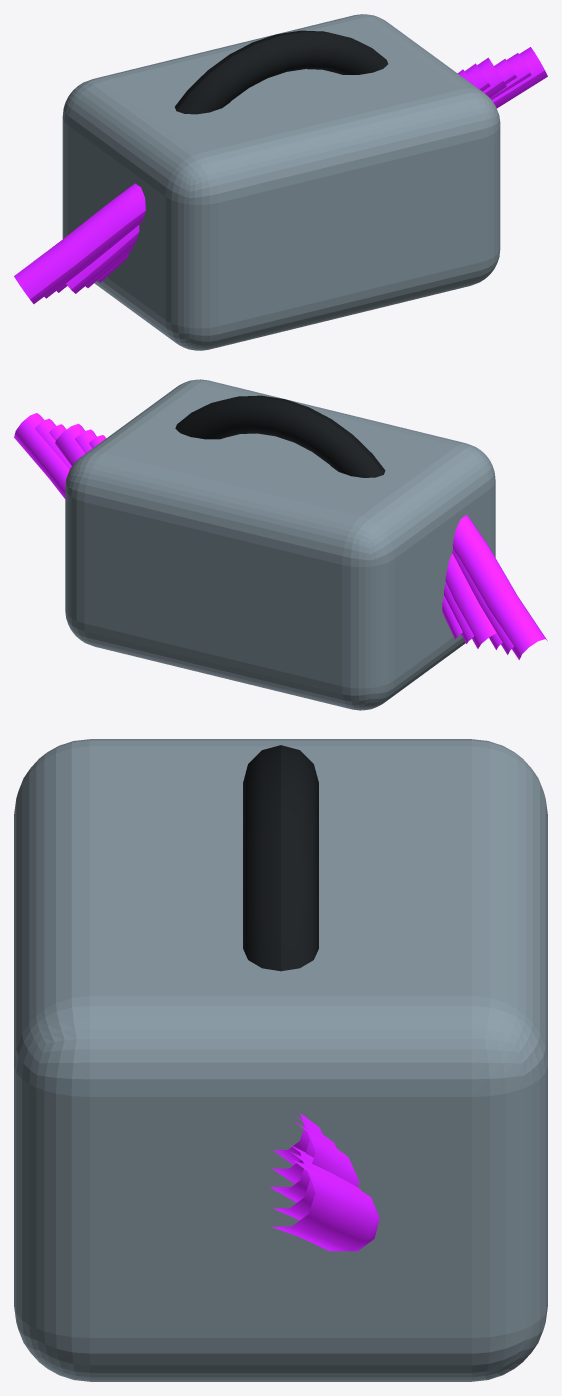
Rendered from electrical_04.glb.
The picture shows the model from 3 angles, top to bottom: view 1: azimuth 30°, elevation 25°; view 2: azimuth 150°, elevation 25°; view 3: azimuth 270°, elevation 25°; orthographic projection. The views are drawn at different scales.
Visible parts, largest first — view 1: asset_mesh__electrical_0152__reference_body, asset_mesh__electrical_0170__service_element, asset_mesh__electrical_0179__current_path, asset_mesh__electrical_0158__current_path, asset_mesh__electrical_0169__current_path, asset_mesh__electrical_0166__current_path; view 2: asset_mesh__electrical_0152__reference_body, asset_mesh__electrical_0170__service_element, asset_mesh__electrical_0179__current_path, asset_mesh__electrical_0158__current_path, asset_mesh__electrical_0169__current_path, asset_mesh__electrical_0166__current_path, asset_mesh__electrical_0165__current_path; view 3: asset_mesh__electrical_0152__reference_body, asset_mesh__electrical_0170__service_element, asset_mesh__electrical_0179__current_path, asset_mesh__electrical_0158__current_path, asset_mesh__electrical_0169__current_path.
Part boxes in pixels (x1,y1,x2,y2): asset_mesh__electrical_0152__reference_body: (62, 14, 500, 350); asset_mesh__electrical_0170__service_element: (175, 30, 388, 114); asset_mesh__electrical_0179__current_path: (14, 47, 547, 303); asset_mesh__electrical_0158__current_path: (66, 57, 506, 293); asset_mesh__electrical_0169__current_path: (44, 53, 531, 298); asset_mesh__electrical_0166__current_path: (85, 63, 490, 287); asset_mesh__electrical_0152__reference_body: (65, 379, 495, 710); asset_mesh__electrical_0170__service_element: (175, 395, 385, 477); asset_mesh__electrical_0179__current_path: (14, 413, 547, 659); asset_mesh__electrical_0158__current_path: (55, 423, 496, 648); asset_mesh__electrical_0169__current_path: (35, 418, 513, 654); asset_mesh__electrical_0166__current_path: (75, 429, 473, 643); asset_mesh__electrical_0165__current_path: (89, 435, 462, 639); asset_mesh__electrical_0152__reference_body: (14, 739, 547, 1381); asset_mesh__electrical_0170__service_element: (243, 745, 318, 971); asset_mesh__electrical_0179__current_path: (271, 1160, 379, 1251); asset_mesh__electrical_0158__current_path: (270, 1121, 358, 1202); asset_mesh__electrical_0169__current_path: (273, 1152, 360, 1220).
Bounding box in the file's own units: 1.73 × 0.9164 × 0.7728.
